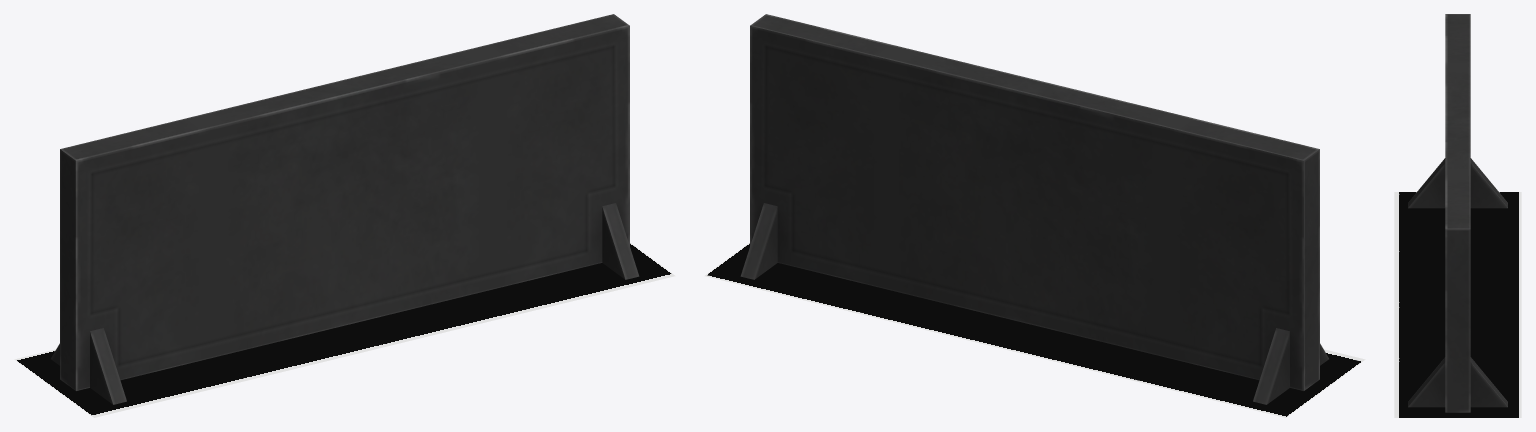
The model's file is shelf2.obj.
3 renders of one model, left to right at view 1: azimuth 30°, elevation 25°; view 2: azimuth 150°, elevation 25°; view 3: azimuth 270°, elevation 25°, orthographic. The views are drawn at different scales.
Visible parts, largest first — view 1: shelf2, shelf2ao; view 2: shelf2, shelf2ao; view 3: shelf2ao, shelf2.
Boxes of the visible parts, x1,y1,x2,y2 form: shelf2: (51, 14, 639, 404); shelf2ao: (14, 243, 675, 417); shelf2: (740, 14, 1328, 404); shelf2ao: (704, 243, 1365, 417); shelf2ao: (1394, 192, 1521, 417); shelf2: (1408, 14, 1507, 412).
Bounding box in the file's own units: 0.525 × 0.2 × 0.125.
2 materials, 2 textured.
